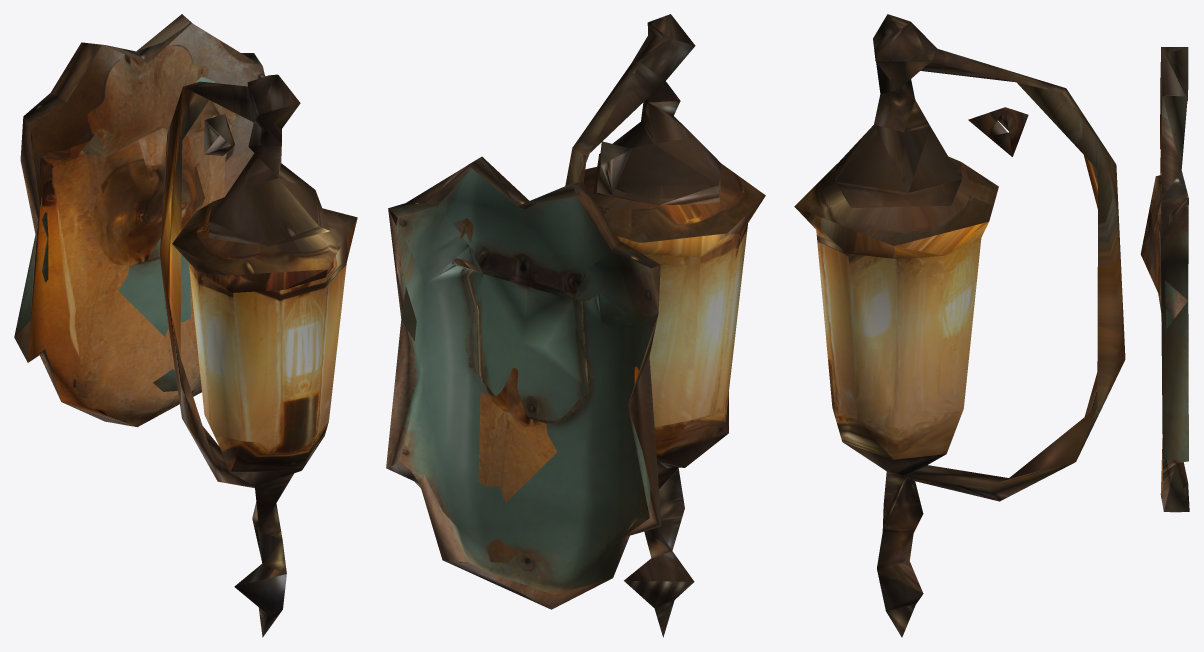
The model's file is lamp1.fbx.
3 views of the same model, side by side, from view 1: azimuth 30°, elevation 25°; view 2: azimuth 150°, elevation 25°; view 3: azimuth 270°, elevation 25° (orthographic). The views are drawn at different scales.
Parts seen in each view (by area): view 1: Mesh1_Mesh1.003; view 2: Mesh1_Mesh1.003; view 3: Mesh1_Mesh1.003.
Part boxes in pixels (left/top/right/bottom): Mesh1_Mesh1.003: left=14, top=14, right=357, bottom=637; Mesh1_Mesh1.003: left=386, top=14, right=765, bottom=637; Mesh1_Mesh1.003: left=794, top=14, right=1189, bottom=637.
Bounding box in the file's own units: 87.19 × 192 × 110.
Materials: 1 (1 with a texture image).
